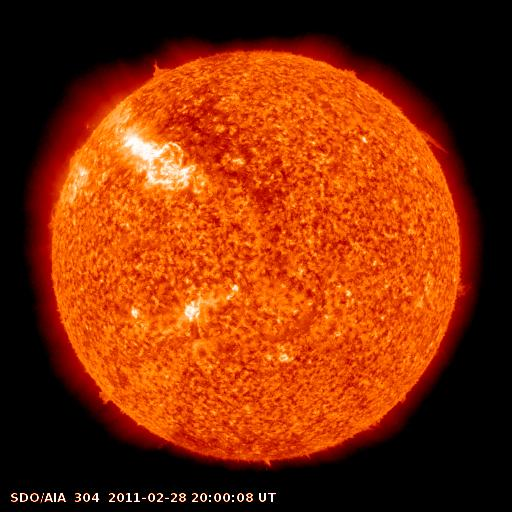prominence: (403, 116, 460, 162), (134, 48, 184, 90), (79, 377, 127, 416), (443, 270, 484, 308)
